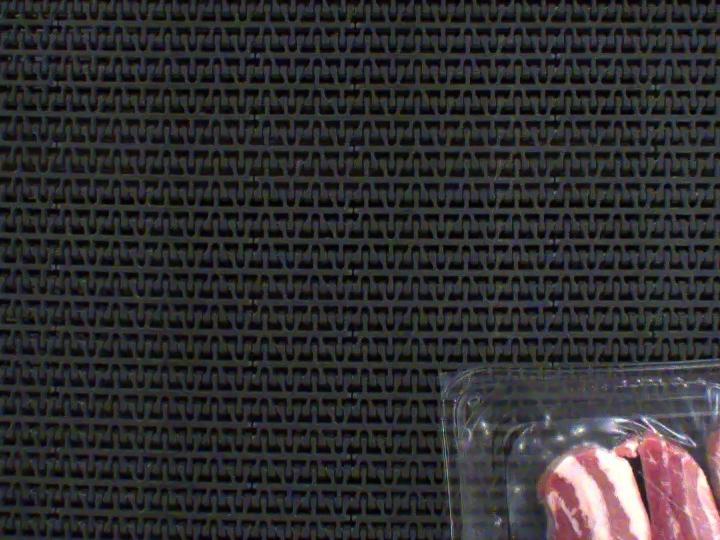unsealed: (442, 362, 720, 540)
